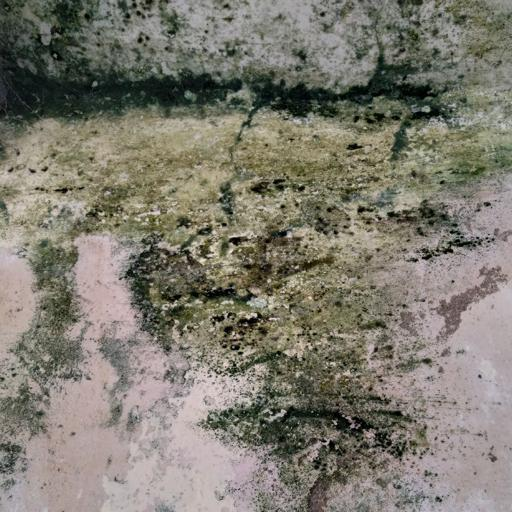algae: (121, 0, 457, 500)
